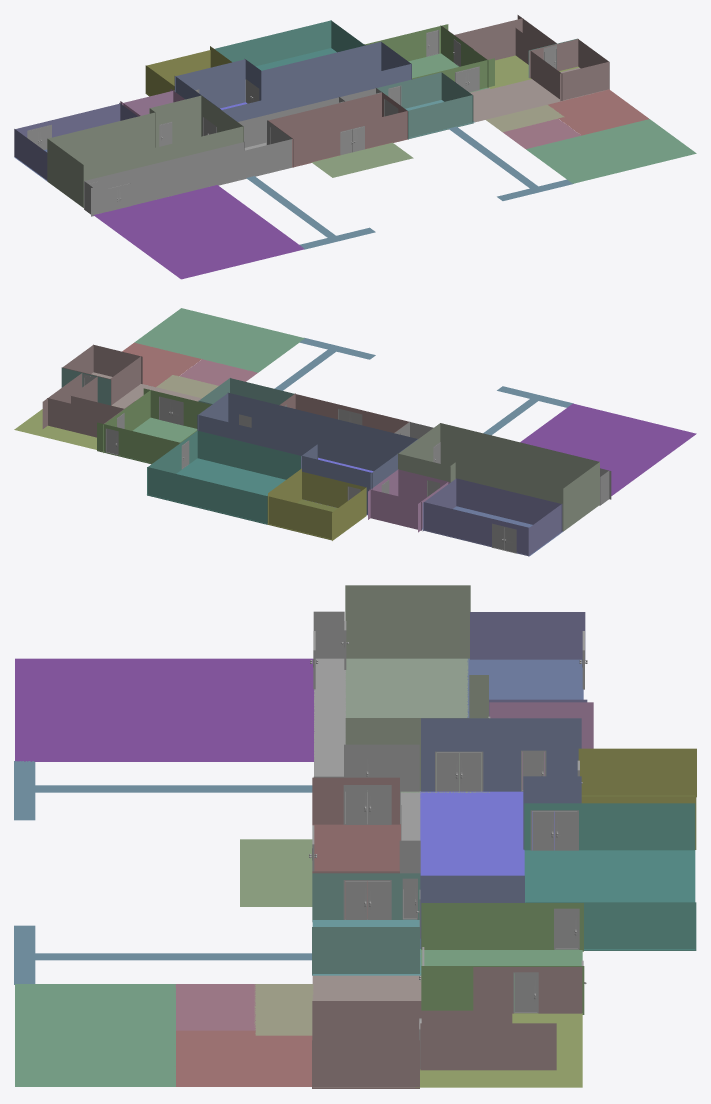
Rendered from greybox final.fbx.
3 views of the same model, one above another, from view 1: azimuth 30°, elevation 25°; view 2: azimuth 150°, elevation 25°; view 3: azimuth 270°, elevation 25° (orthographic). The views are drawn at different scales.
Parts seen in each view (by area): view 1: pPlane15, pPlane11, pPlane34, pPlane27, pPlane57, pPlane24, pPlane49, pPlane41, pPlane60, pPlane16, pPlane38, pPlane7 (+41 smaller); view 2: pPlane15, pPlane24, pPlane11, pPlane60, pPlane49, pPlane47, pPlane67, pPlane68, pPlane9, pPlane54, pPlane27, pPlane57 (+41 smaller); view 3: pPlane15, pPlane11, pPlane59, pPlane9, pPlane2, pPlane30, pPlane12, pPlane16, pPlane69, pPlane79, pPlane48, pPlane53 (+38 smaller).
Part boxes in pixels (x1,y1,x2,y2): pPlane15: [93, 185, 304, 279]; pPlane11: [526, 119, 696, 183]; pPlane34: [91, 139, 291, 216]; pPlane27: [261, 41, 381, 100]; pPlane57: [48, 112, 155, 164]; pPlane24: [221, 64, 411, 121]; pPlane49: [215, 20, 331, 66]; pPlane41: [292, 111, 407, 167]; pPlane60: [83, 126, 243, 207]; pPlane16: [548, 89, 648, 135]; pPlane38: [268, 93, 381, 138]; pPlane7: [470, 67, 609, 122]; pPlane15: [520, 403, 696, 495]; pPlane24: [228, 392, 417, 471]; pPlane11: [134, 308, 304, 372]; pPlane60: [440, 423, 599, 488]; pPlane49: [147, 467, 267, 524]; pPlane47: [197, 431, 300, 479]; pPlane67: [456, 478, 561, 531]; pPlane68: [424, 502, 528, 556]; pPlane9: [148, 458, 285, 523]; pPlane54: [267, 496, 332, 540]; pPlane27: [197, 414, 317, 459]; pPlane57: [455, 462, 563, 531]; pPlane15: [15, 658, 314, 761]; pPlane11: [15, 984, 175, 1086]; pPlane59: [345, 585, 470, 658]; pPlane9: [524, 850, 695, 949]; pPlane2: [420, 791, 554, 875]; pPlane30: [421, 718, 581, 791]; pPlane12: [345, 658, 489, 792]; pPlane16: [176, 1030, 312, 1086]; pPlane69: [421, 903, 583, 951]; pPlane79: [420, 1023, 556, 1070]; pPlane48: [524, 803, 695, 850]; pPlane53: [578, 748, 696, 797].
Bounding box in the file's own units: 582 × 47.63 × 390.
